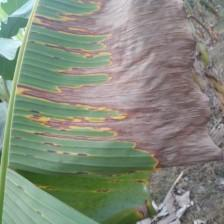sigatoka: (7, 0, 224, 224)
